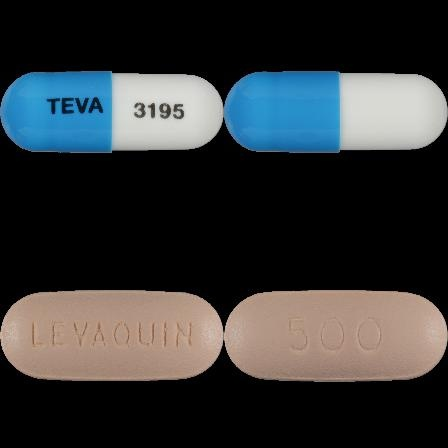67296-0369: (0, 0, 224, 224)
